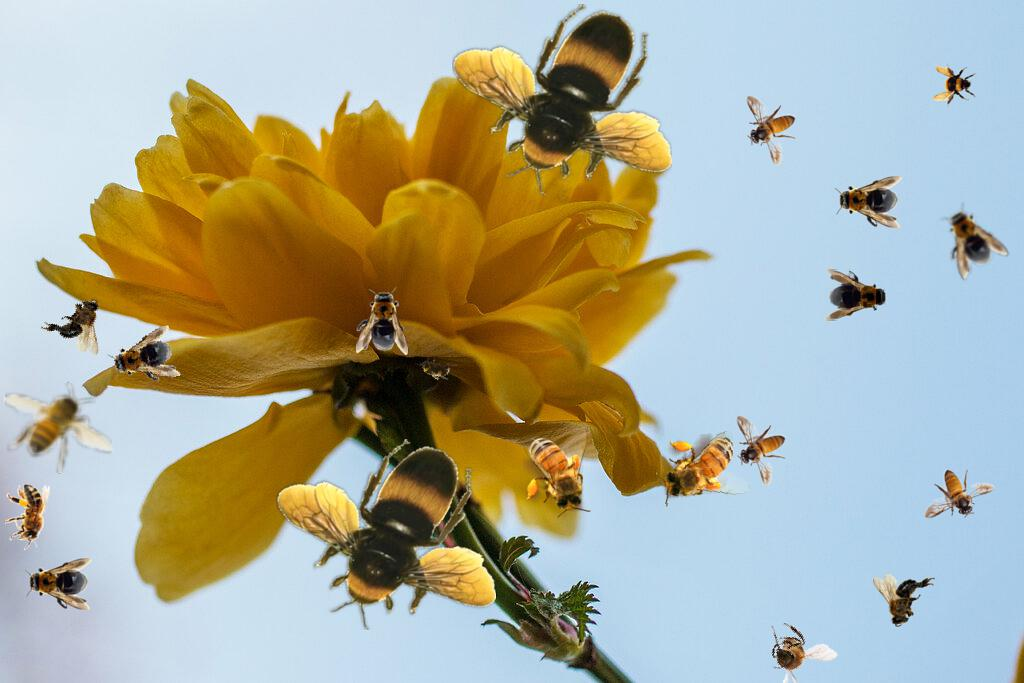Bee: (276, 439, 496, 630), (452, 4, 672, 195), (3, 381, 114, 475), (651, 429, 753, 508), (928, 196, 1010, 282), (746, 610, 839, 683), (523, 425, 591, 518), (39, 283, 118, 359), (103, 324, 183, 394), (924, 469, 995, 519), (736, 415, 786, 486), (746, 95, 796, 166), (824, 269, 892, 321), (834, 176, 902, 228), (356, 287, 408, 355), (24, 558, 92, 610), (873, 574, 935, 627), (5, 484, 50, 550), (932, 64, 976, 108), (412, 350, 458, 386)
